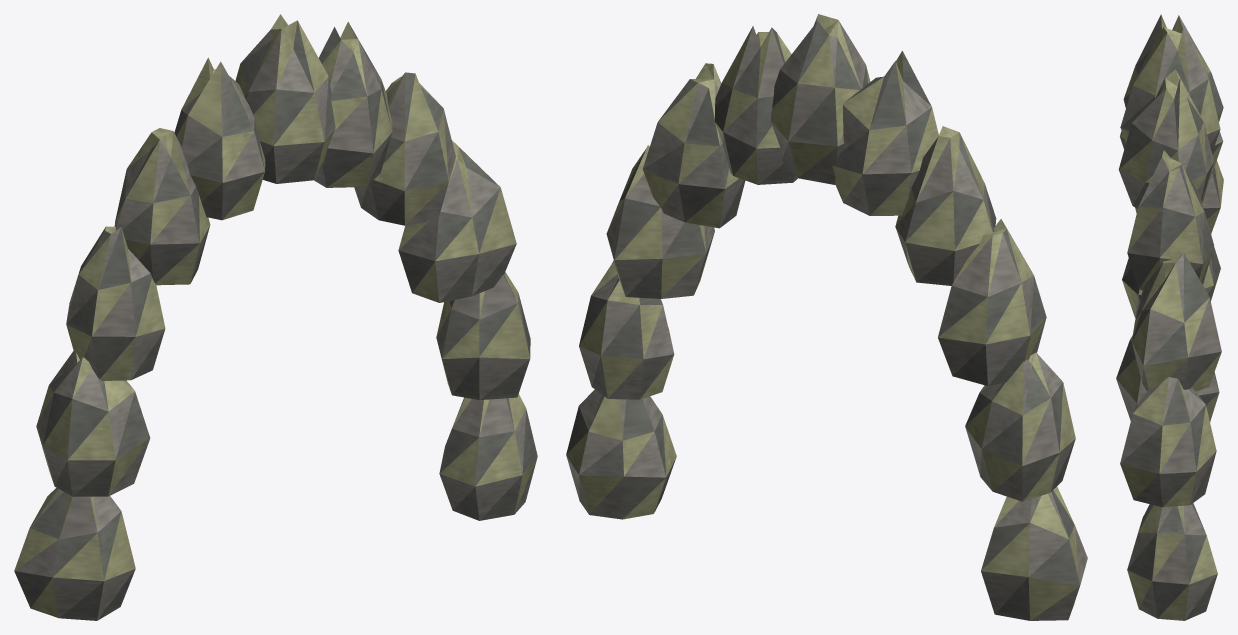
The model's file is ruins_arch.fbx.
The picture shows the model from 3 angles, left to right: view 1: azimuth 30°, elevation 25°; view 2: azimuth 150°, elevation 25°; view 3: azimuth 270°, elevation 25°; orthographic projection. The views are drawn at different scales.
Parts seen in each view (by area): view 1: ruins_arch; view 2: ruins_arch; view 3: ruins_arch.
Boxes of the visible parts, left/top/right/bottom form: ruins_arch: left=14, top=14, right=537, bottom=620; ruins_arch: left=566, top=14, right=1087, bottom=620; ruins_arch: left=1116, top=14, right=1223, bottom=620.
Size of the model in its own units: 500 by 500 by 100.
Materials: 1 (1 with a texture image).
